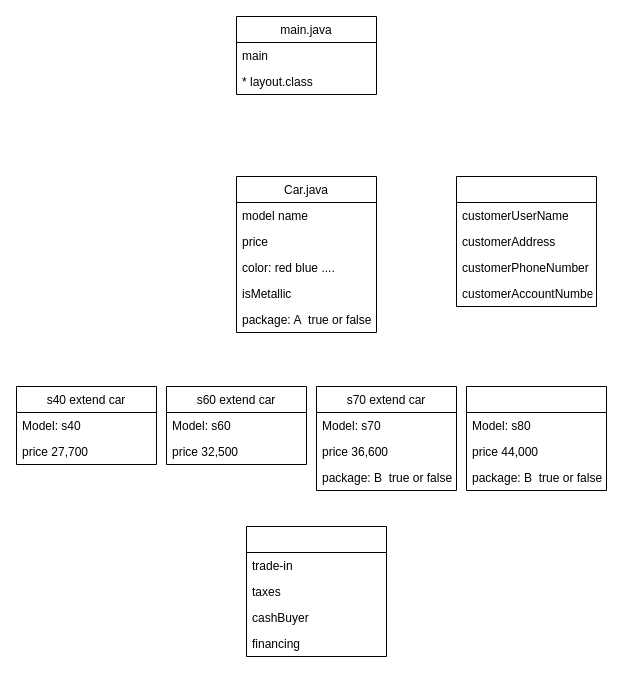
Image size: 623x673. Some labels were removed from this diagram. Here are the shapes that lost their labels. From the top down, the box of each, then its label:
(456, 176, 596, 306): Customer.java
(466, 386, 606, 490): s80 extend car
(246, 526, 386, 656): Calculations.java
